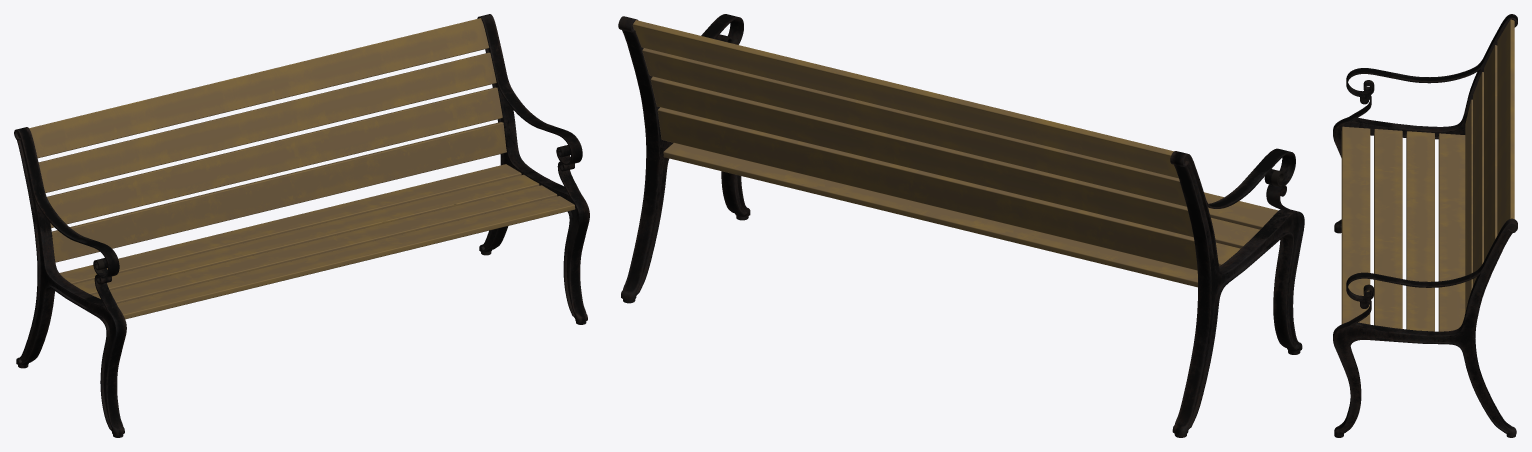
Rendered from a_bench.glb.
The picture shows the model from 3 angles, left to right: view 1: azimuth 30°, elevation 25°; view 2: azimuth 150°, elevation 25°; view 3: azimuth 270°, elevation 25°; orthographic projection. The views are drawn at different scales.
Parts seen in each view (by area): view 1: Bench_01_0; view 2: Bench_01_0; view 3: Bench_01_0.
Part boxes in pixels (x1=…): Bench_01_0: x1=14, y1=14, x2=589, y2=437; Bench_01_0: x1=618, y1=14, x2=1304, y2=437; Bench_01_0: x1=1333, y1=14, x2=1517, y2=437.
Bounding box in the file's own units: 1.69 × 0.8099 × 0.6308.
1 material, 1 textured.
